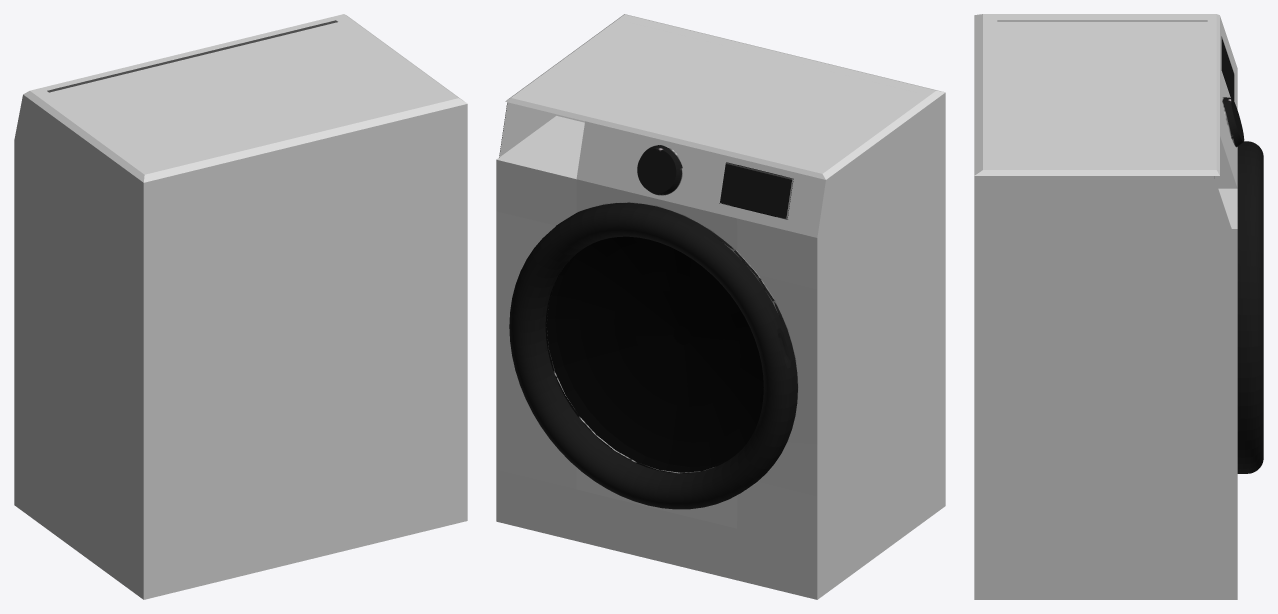
File: washing_machine.fbx
3 views of the same model, side by side, from view 1: azimuth 30°, elevation 25°; view 2: azimuth 150°, elevation 25°; view 3: azimuth 270°, elevation 25° (orthographic). The views are drawn at different scales.
Parts seen in each view (by area): view 1: washing_machine_Baked; view 2: washing_machine_Baked; view 3: washing_machine_Baked.
Part boxes in pixels (bbox=[...]): washing_machine_Baked: bbox=[14, 14, 467, 599]; washing_machine_Baked: bbox=[496, 14, 945, 599]; washing_machine_Baked: bbox=[974, 14, 1263, 599].
Size of the model in its own units: 65 by 81.71 by 49.45.
1 material, 1 textured.
